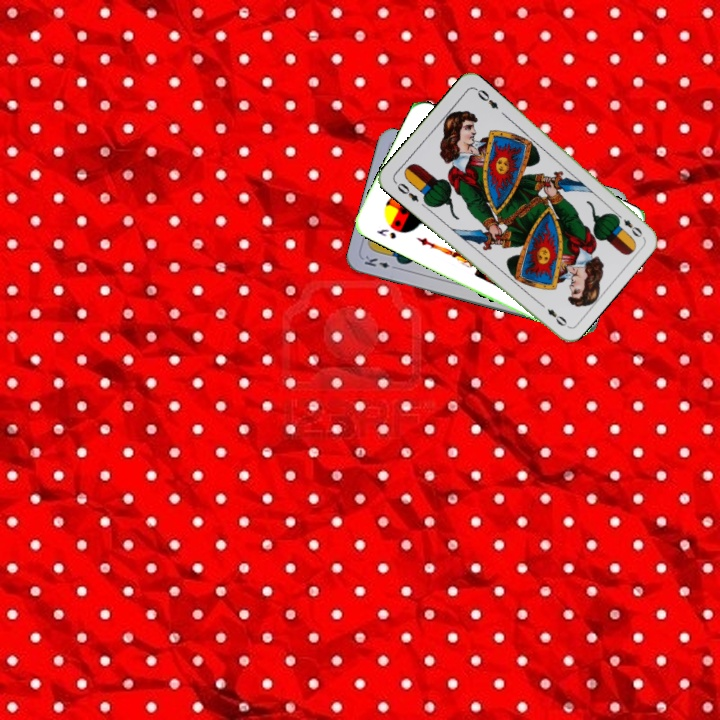EK: (360, 251, 400, 272)
EO: (611, 209, 645, 240), (391, 178, 421, 205)
SK: (372, 225, 399, 241)
